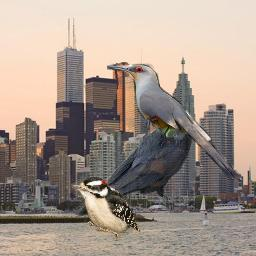Crow: (74, 113, 205, 218)
Cuckoo: (107, 63, 243, 183)
Woodpecker: (69, 177, 141, 240)
